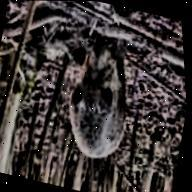boar: (54, 31, 147, 166)
